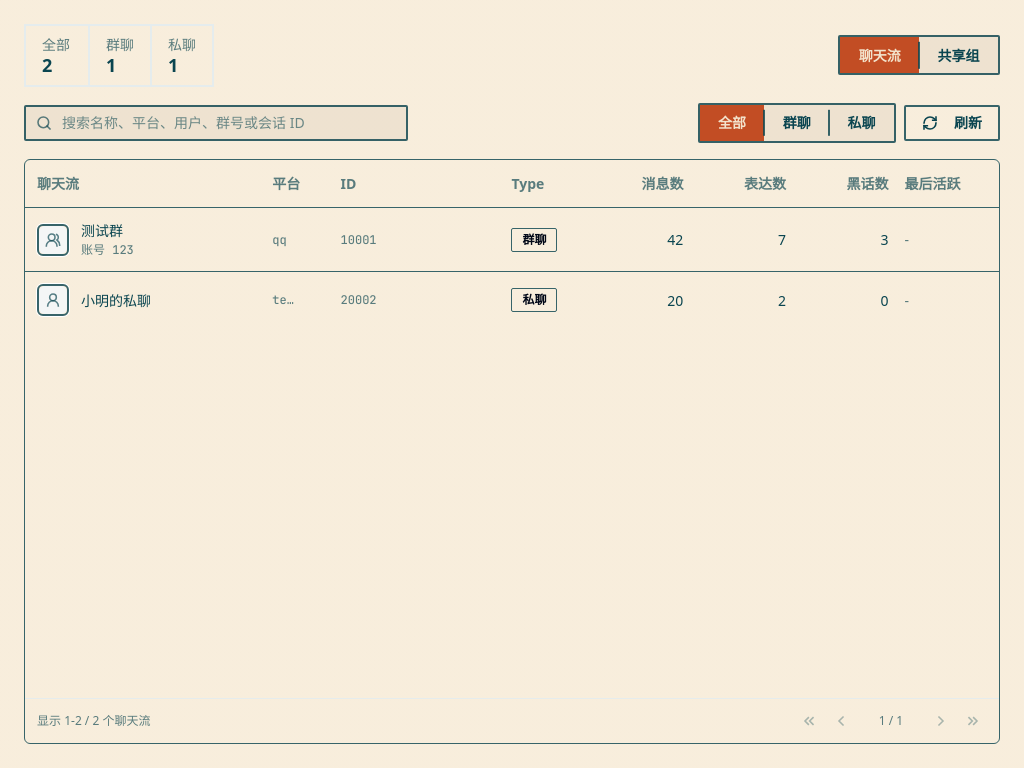
ChatManagementPage 详情弹窗 › 详情加载失败时弹窗内显示错误提示
The image size is (1024, 768).
Click the button with aria-label "查看 测试群 · 账号 123 详情" at (512, 240), box [25, 208, 999, 272]
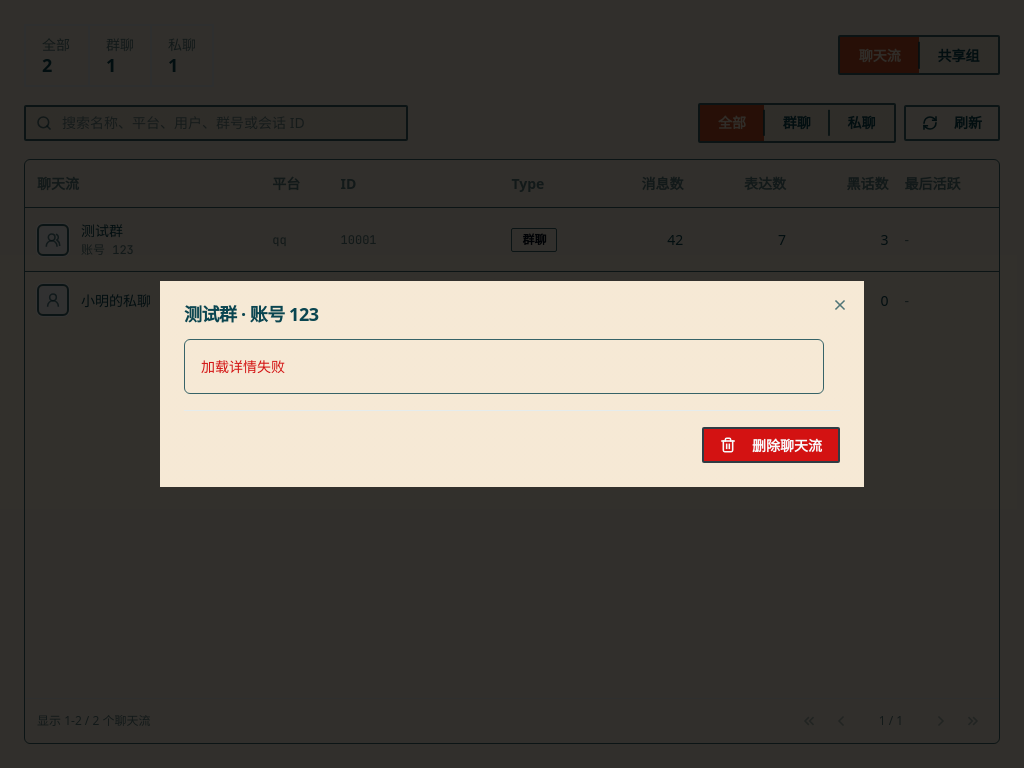
expect the text "加载详情失败" is shown: met, box [184, 339, 824, 394]
